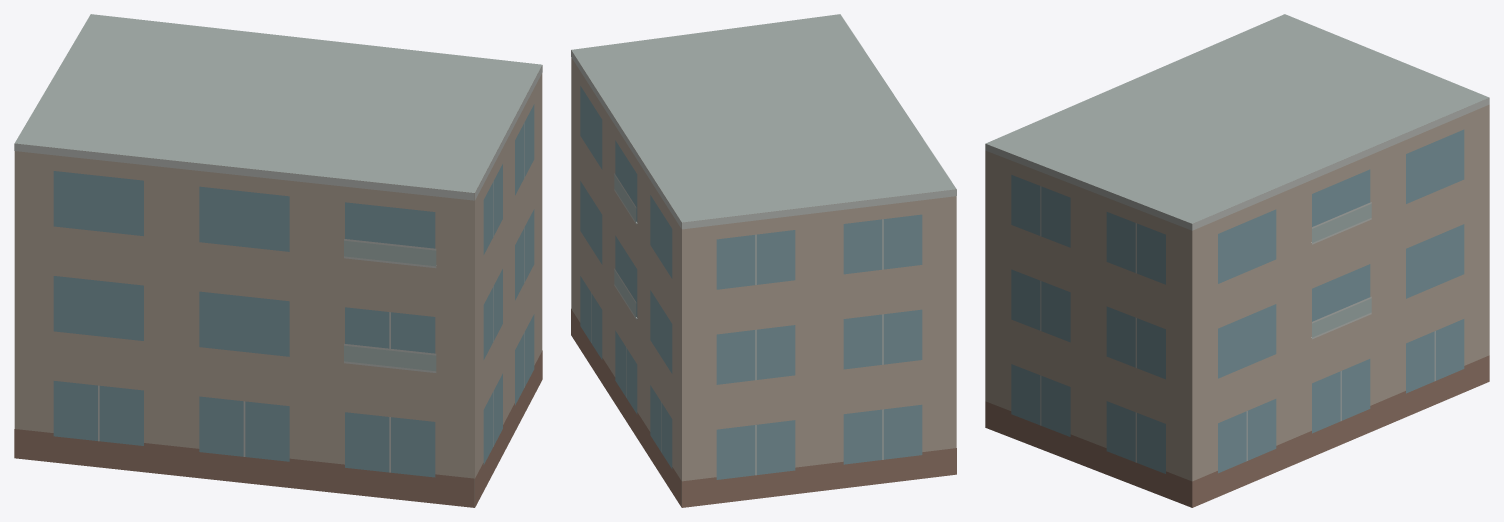
Rendered from survey-upis-32892510.glb.
3 views of the same model, side by side, from view 1: azimuth 30°, elevation 25°; view 2: azimuth 150°, elevation 25°; view 3: azimuth 270°, elevation 25° (orthographic). The views are drawn at different scales.
Parts seen in each view (by area): view 1: survey-upis-32892510.tmp; view 2: survey-upis-32892510.tmp; view 3: survey-upis-32892510.tmp.
Part boxes in pixels (x1,y1,x2,y2): survey-upis-32892510.tmp: [14, 14, 542, 507]; survey-upis-32892510.tmp: [571, 14, 956, 507]; survey-upis-32892510.tmp: [985, 14, 1489, 507].
Size of the model in its own units: 16.01 by 10.1 by 16.26.
